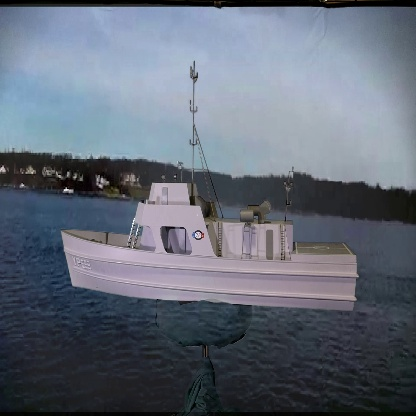YP689: (60, 48, 359, 313)
